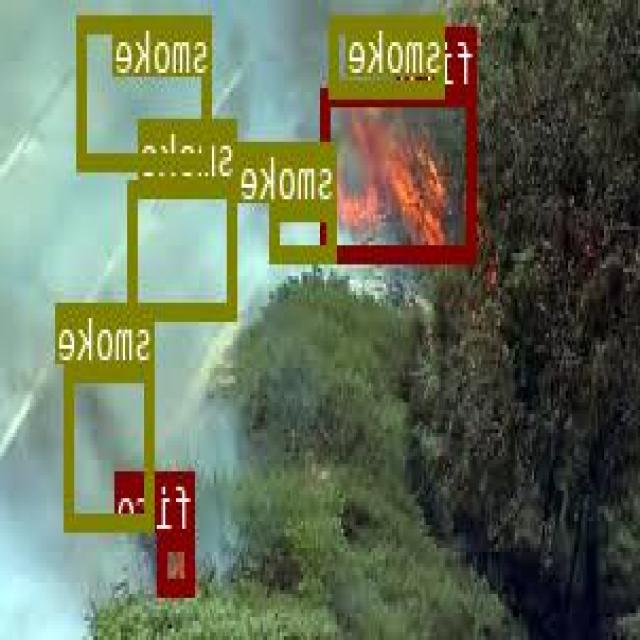fire: (322, 88, 479, 260), (160, 532, 195, 592)
smoke: (80, 13, 213, 165), (130, 178, 239, 317), (68, 362, 156, 526), (331, 15, 445, 94), (272, 201, 338, 258)
